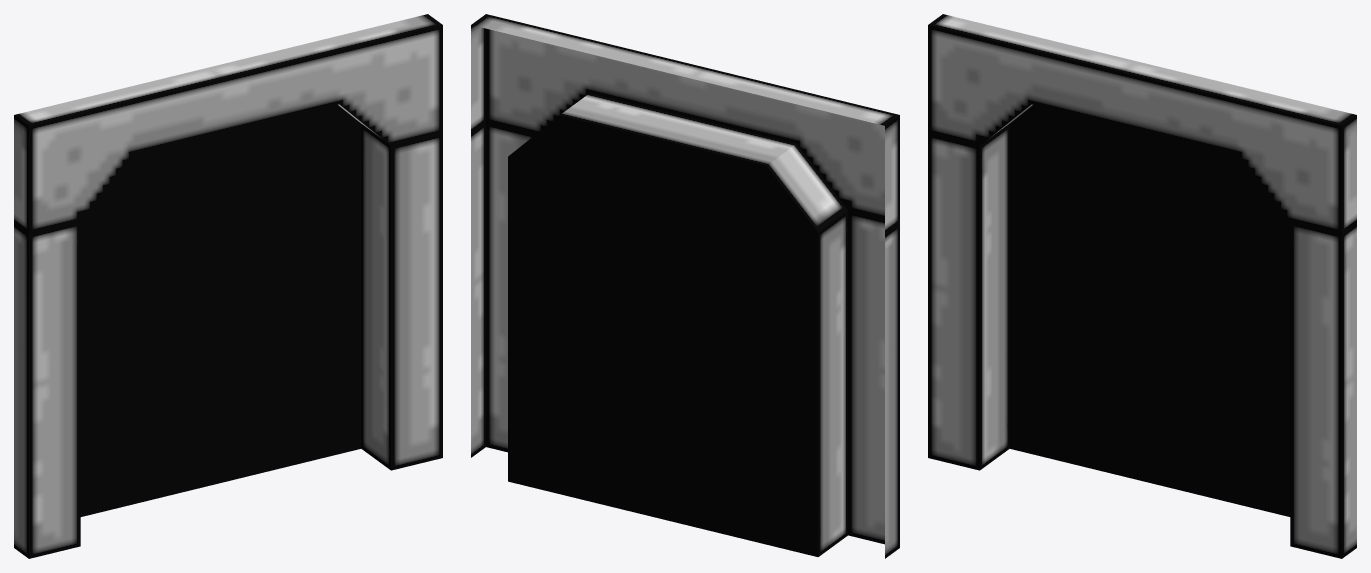
File: arch_door_woodOpen.FBX
3 renders of one model, left to right at view 1: azimuth 30°, elevation 25°; view 2: azimuth 150°, elevation 25°; view 3: azimuth 330°, elevation 25°, orthographic.
Visible parts, largest first — view 1: arch_door_woodOpen; view 2: arch_door_woodOpen; view 3: arch_door_woodOpen.
Part boxes in pixels (x1,y1,x2,y2): arch_door_woodOpen: (14,14,442,558); arch_door_woodOpen: (471,14,899,558); arch_door_woodOpen: (928,14,1356,558).
Size of the model in its own units: 4 by 4 by 0.5.
Materials: 1 (1 with a texture image).
